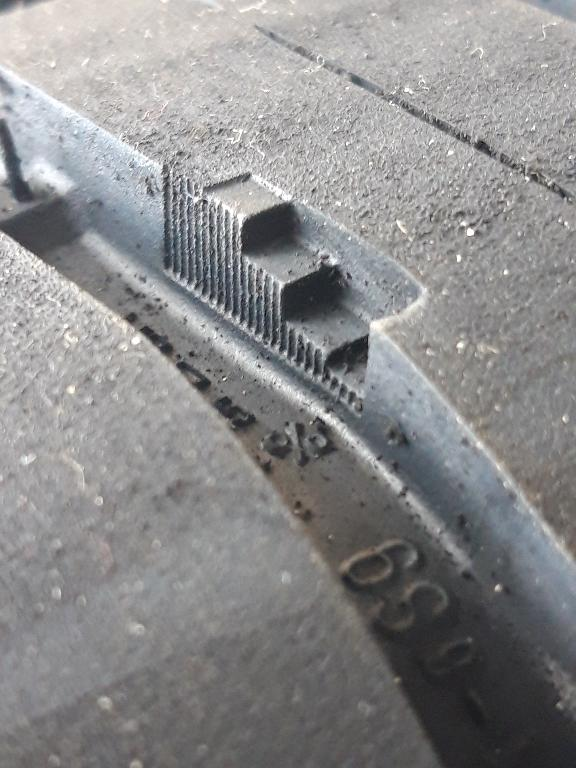temoin:75: (193, 166, 437, 427)
